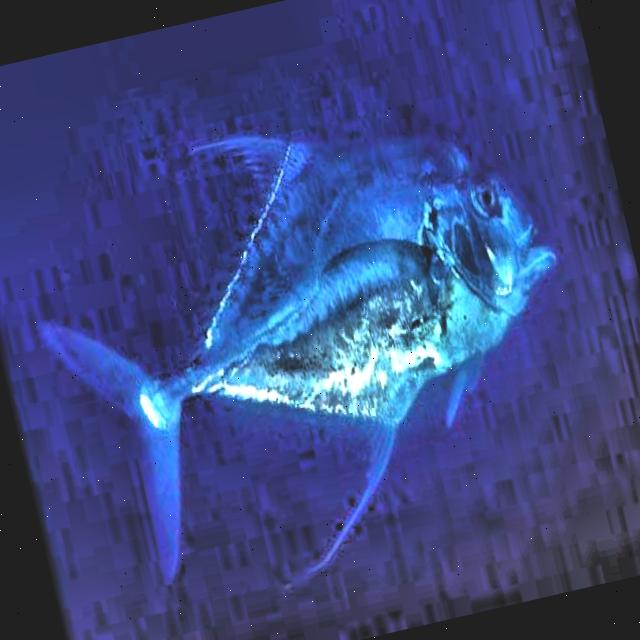fish: (9, 73, 617, 630)
